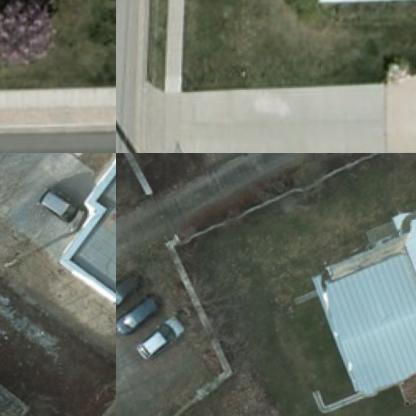car: (35, 182, 82, 230), (134, 316, 182, 358), (116, 293, 160, 332), (116, 273, 142, 310)
